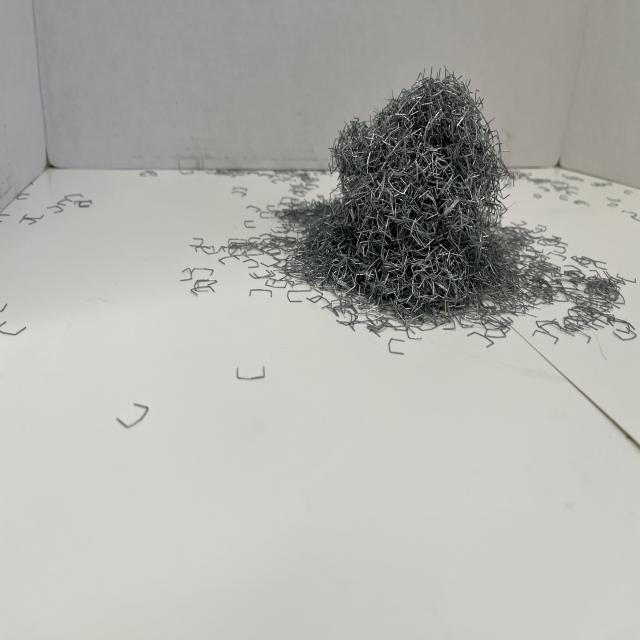staples: (283, 64, 516, 323)
